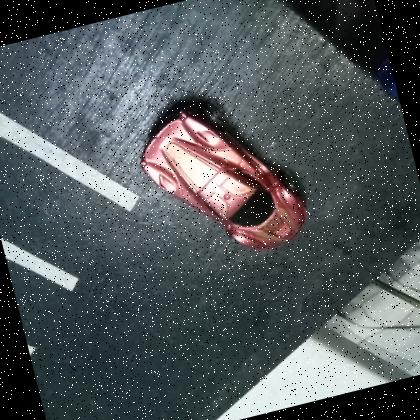Car: (140, 101, 307, 248)
